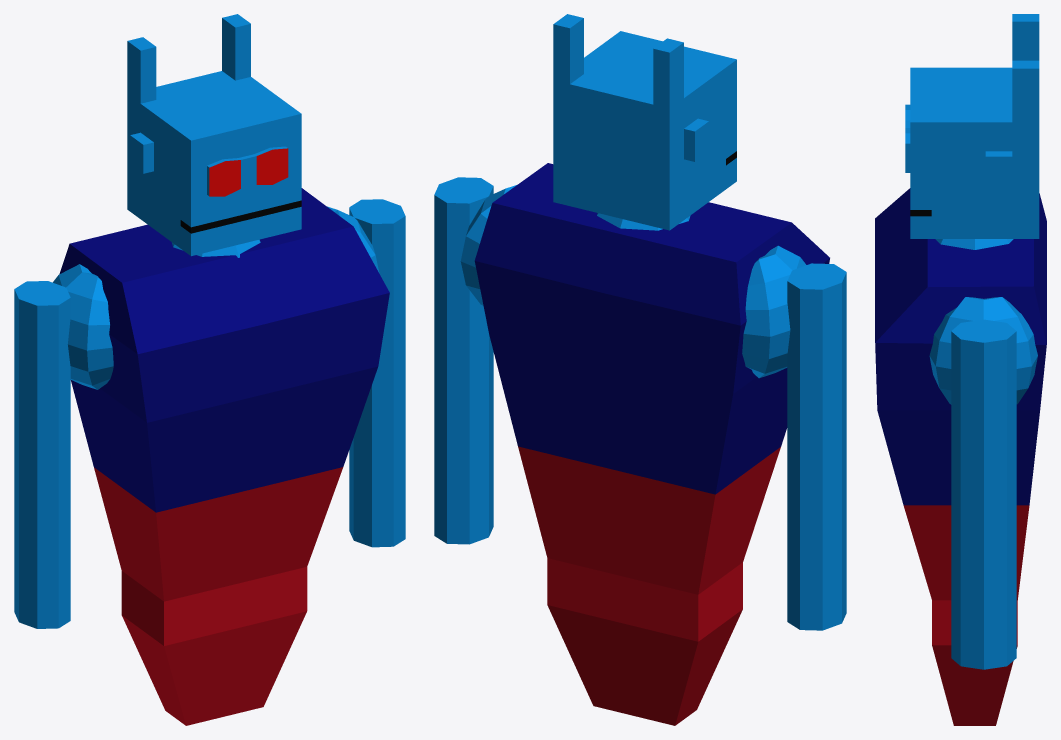
The model's file is robot.fbx.
The picture shows the model from 3 angles, left to right: view 1: azimuth 30°, elevation 25°; view 2: azimuth 150°, elevation 25°; view 3: azimuth 270°, elevation 25°; orthographic projection. The views are drawn at different scales.
Visible parts, largest first — view 1: Torso, Head, Right Arm, Left Arm; view 2: Torso, Head, Right Arm, Left Arm; view 3: Torso, Head, Left Arm.
Boxes of the visible parts, <box> form: Torso: <box>53,188,389,725</box>; Head: <box>127,14,301,256</box>; Right Arm: <box>14,281,70,628</box>; Left Arm: <box>349,199,405,547</box>; Torso: <box>460,163,829,725</box>; Head: <box>553,14,736,230</box>; Right Arm: <box>787,263,846,630</box>; Left Arm: <box>434,177,493,544</box>; Torso: <box>875,188,1046,725</box>; Head: <box>905,14,1039,238</box>; Left Arm: <box>951,319,1016,669</box>.
Bounding box in the file's own units: 87.19 × 144 × 33.55.
